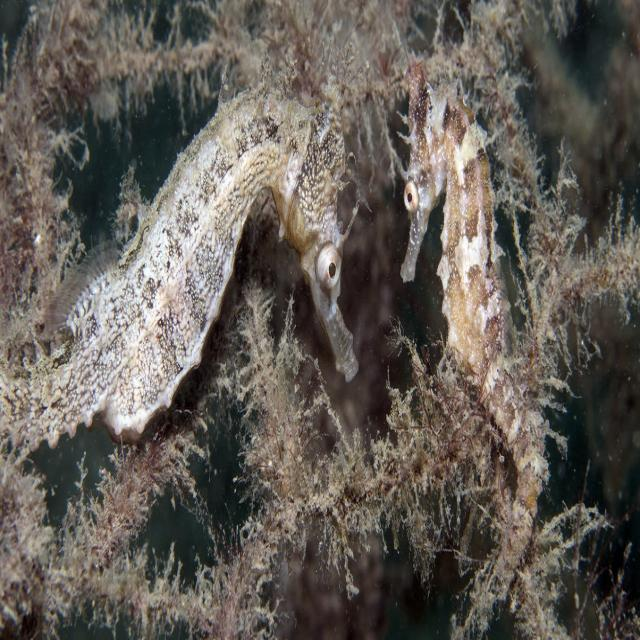seahorse: (41, 92, 359, 442), (401, 64, 540, 496)
